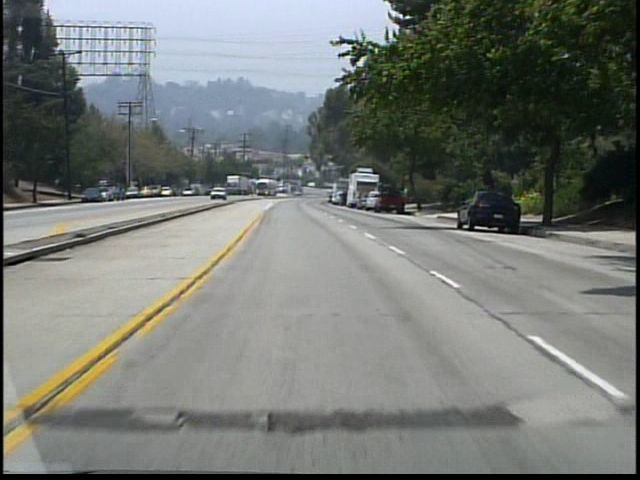person: (398, 183, 409, 209)
